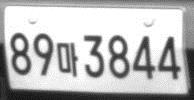3: (83, 34, 104, 79)
4: (155, 35, 181, 80), (132, 35, 157, 79)
8: (9, 32, 31, 76), (108, 35, 129, 79)
9: (32, 33, 53, 75)
마: (56, 41, 78, 76)
